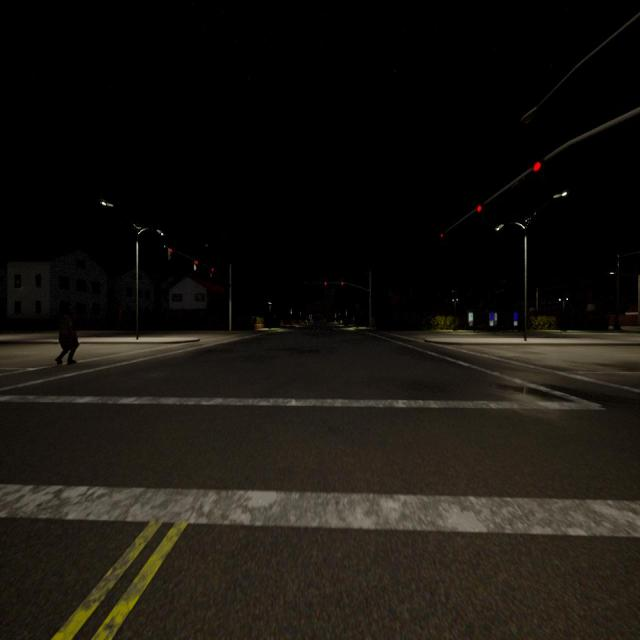Pedestrian: (56, 303, 78, 365)
traffic_light: (533, 162, 541, 172), (168, 248, 172, 260), (194, 260, 198, 270), (477, 205, 481, 212), (210, 268, 213, 277), (441, 234, 443, 237), (324, 282, 326, 285), (341, 282, 343, 285)
